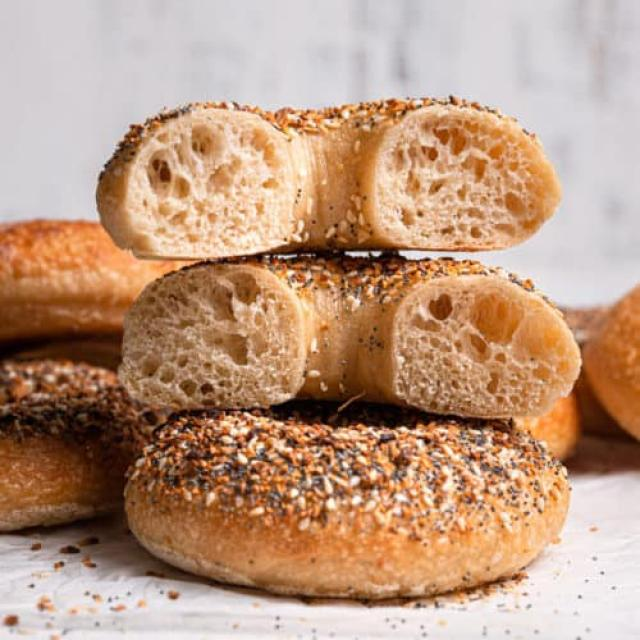Bagel: (125, 402, 570, 599)
